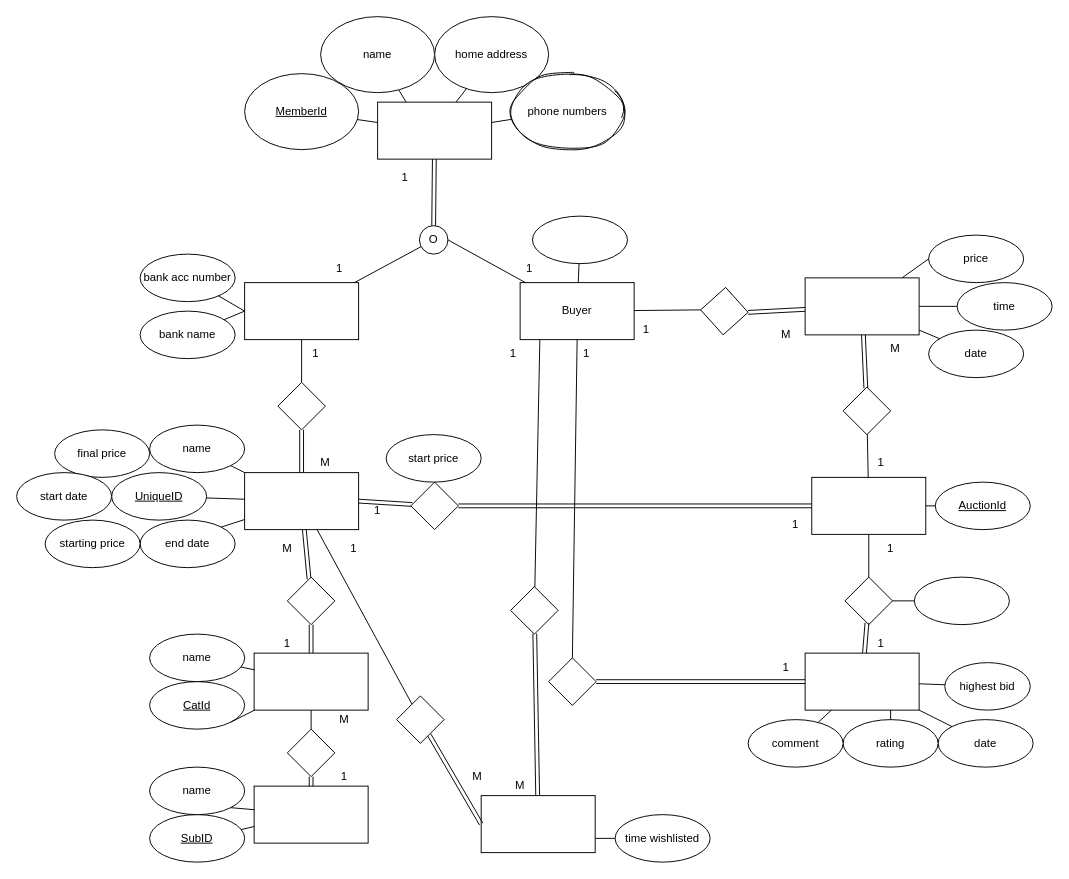
Some shapes in this 1069 by 879 pixel diagram are drawn without their labels. The box of each missing label's shape, as (x1, y1, x2, y2) in pixels:
Auction: (811, 476, 926, 534)
Bid: (804, 277, 919, 335)
Category: (253, 652, 368, 710)
delivery address: (532, 215, 627, 264)
Item for sale: (244, 472, 359, 530)
Member: (377, 101, 492, 159)
Seller: (244, 282, 359, 340)
status: (913, 576, 1009, 625)
Subcategory: (253, 785, 368, 843)
transaction: (804, 652, 919, 710)
Wishlist: (480, 795, 595, 853)
